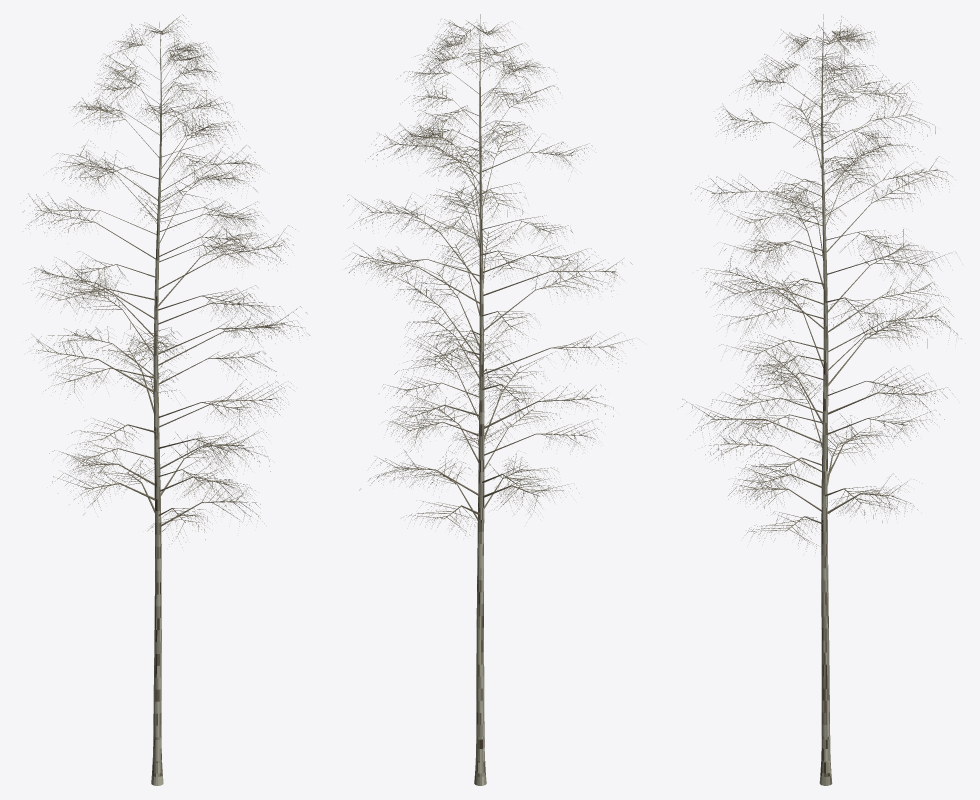
Rendered from wood.dae.
3 views of the same model, side by side, from view 1: azimuth 30°, elevation 25°; view 2: azimuth 150°, elevation 25°; view 3: azimuth 270°, elevation 25° (orthographic).
Visible parts, largest first — view 1: tree_node; view 2: tree_node; view 3: tree_node.
Boxes of the visible parts, bbox=[...] form: tree_node: bbox=[20, 14, 309, 785]; tree_node: bbox=[343, 14, 639, 785]; tree_node: bbox=[681, 14, 961, 785].
Size of the model in its own units: 7.92 by 7.5 by 22.
